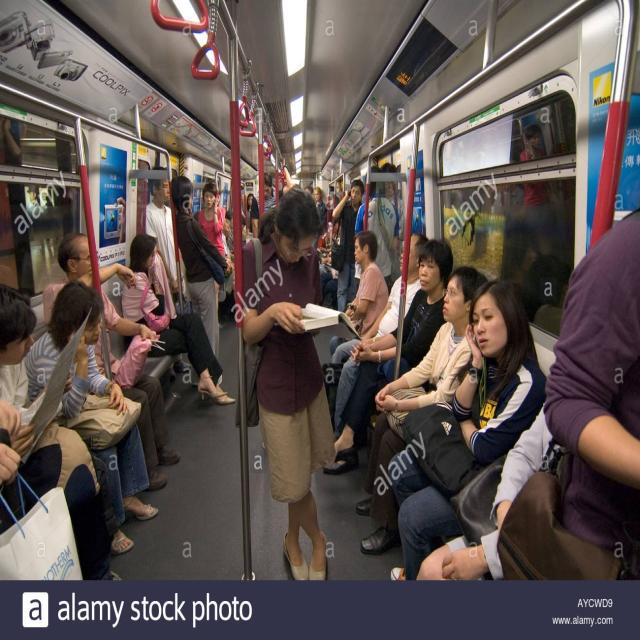body: (492, 210, 640, 580), (388, 275, 547, 580), (357, 265, 490, 556), (38, 227, 182, 495), (242, 185, 339, 582), (22, 279, 160, 556), (0, 282, 124, 580), (323, 236, 455, 478), (320, 232, 430, 450), (118, 230, 239, 409), (170, 174, 233, 389), (144, 164, 192, 381), (328, 229, 390, 365), (352, 164, 400, 300), (331, 178, 366, 313), (252, 155, 294, 220), (379, 162, 405, 258), (197, 182, 226, 258), (1, 437, 23, 490), (312, 186, 328, 251), (304, 184, 337, 211), (222, 213, 233, 250), (245, 193, 254, 233), (239, 180, 246, 219)
